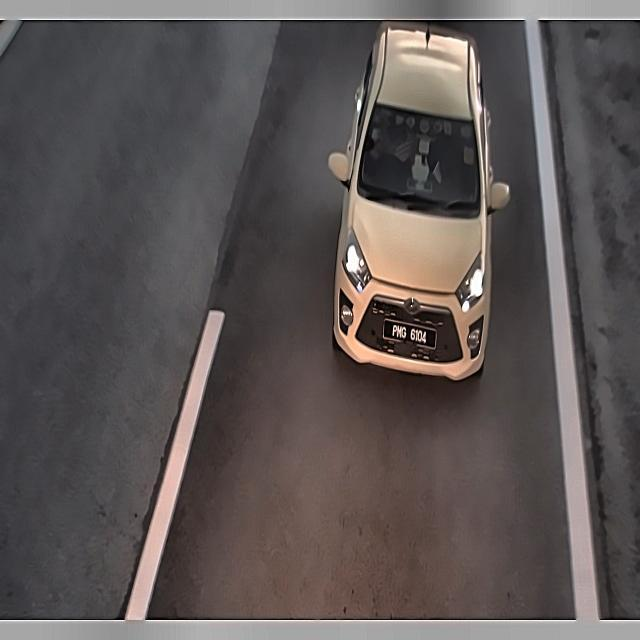car: (379, 303, 446, 355)
